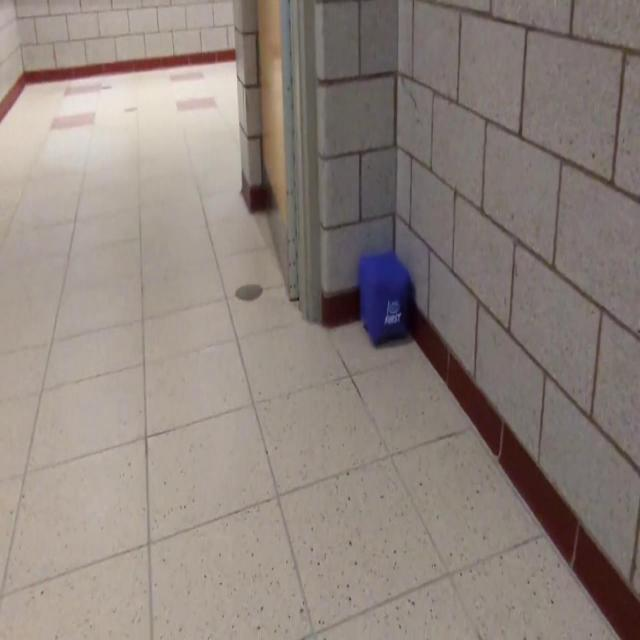frc_cube: (360, 250, 412, 348)
